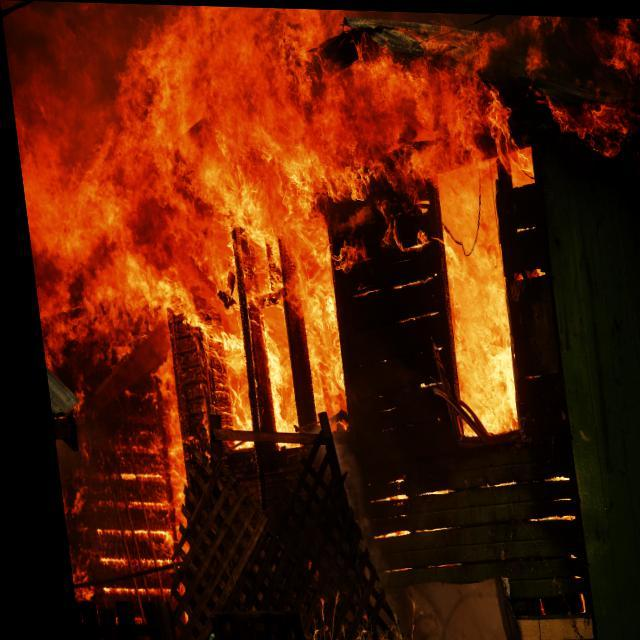Fire: (214, 1, 626, 463), (5, 0, 209, 640)
